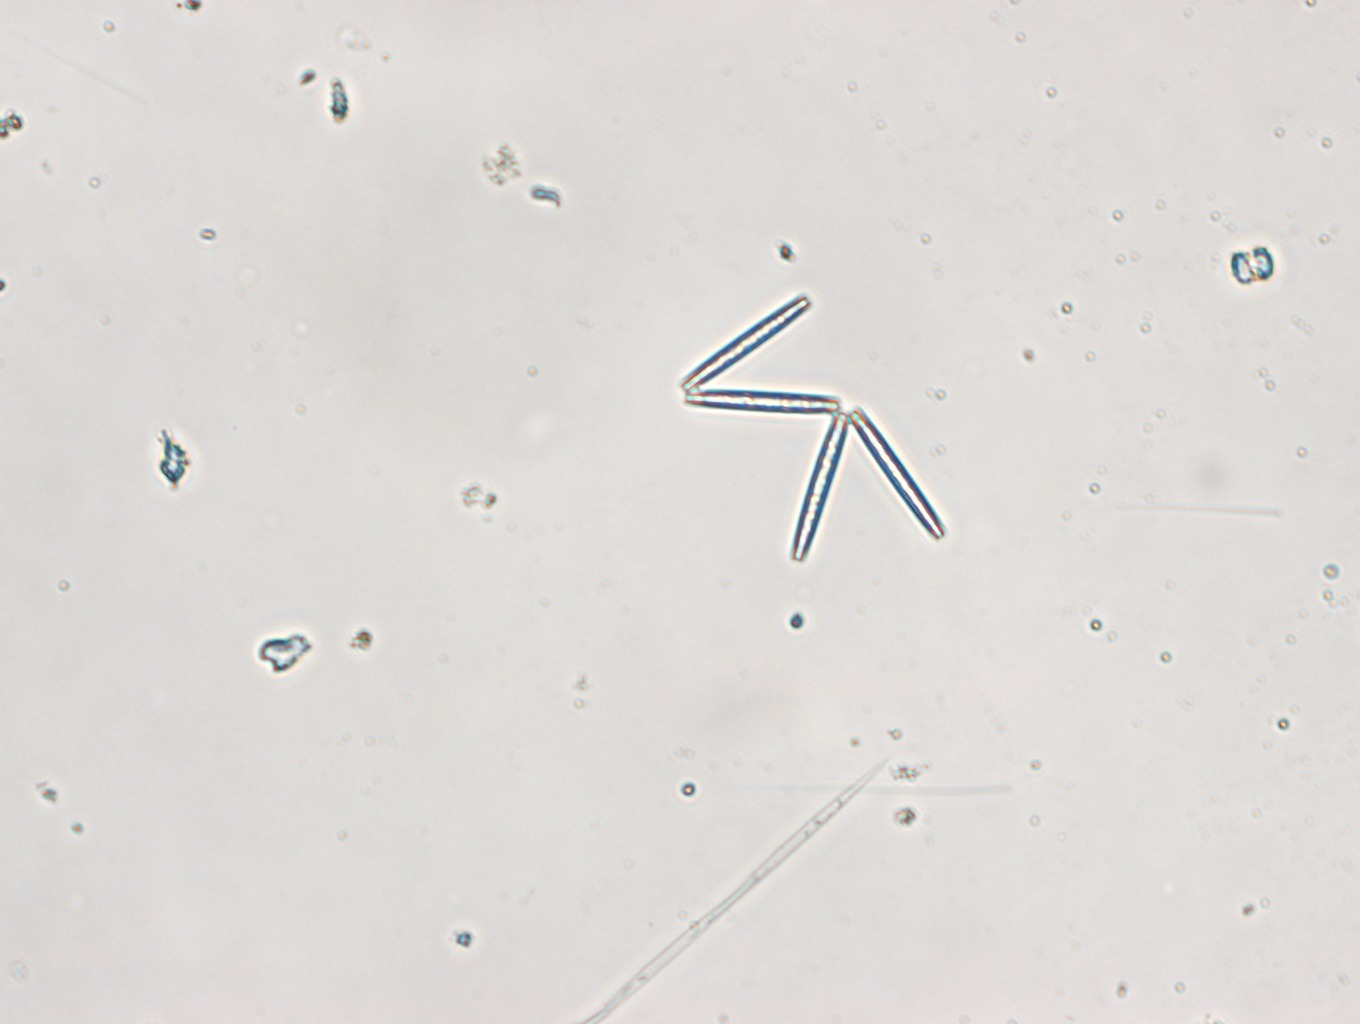thalassionema nitzschioides: (681, 291, 946, 561)
